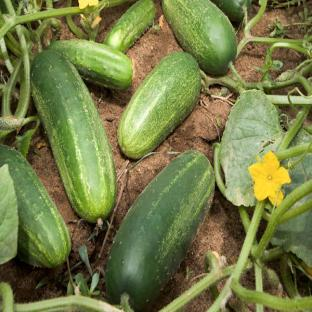Cucumber: (106, 151, 214, 311), (31, 51, 116, 222), (0, 145, 71, 268), (118, 52, 200, 158), (49, 40, 132, 89), (104, 0, 155, 53)
